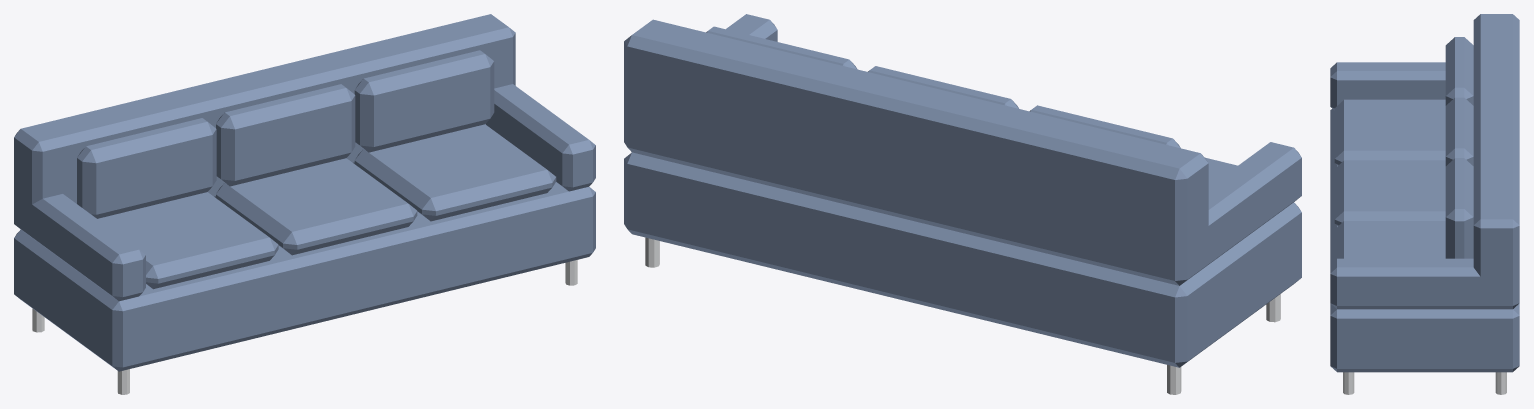
File: sofa.glb
The picture shows the model from 3 angles, left to right: view 1: azimuth 30°, elevation 25°; view 2: azimuth 150°, elevation 25°; view 3: azimuth 270°, elevation 25°; orthographic projection. The views are drawn at different scales.
Visible parts, largest first — view 1: sofa_vinyl_b, sofa_chrome; view 2: sofa_vinyl_b, sofa_chrome; view 3: sofa_vinyl_b, sofa_chrome.
Boxes of the visible parts, left/top/right/bottom form: sofa_vinyl_b: left=14, top=14, right=595, bottom=371; sofa_chrome: left=32, top=260, right=577, bottom=394; sofa_vinyl_b: left=624, top=14, right=1301, bottom=367; sofa_chrome: left=645, top=237, right=1280, bottom=394; sofa_vinyl_b: left=1330, top=14, right=1519, bottom=372; sofa_chrome: left=1343, top=372, right=1506, bottom=394.
Size of the model in its own units: 2.16 by 0.85 by 0.82.
